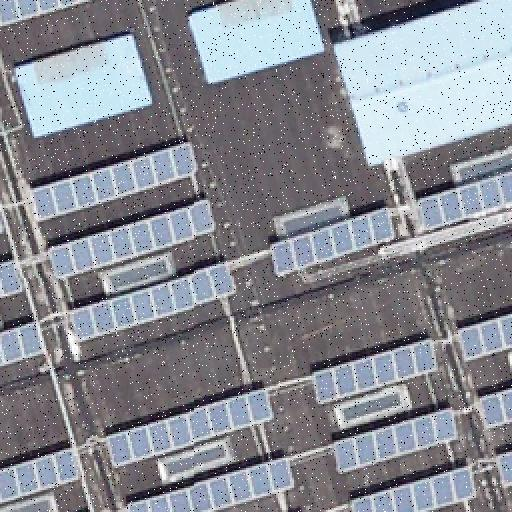solar-panel: (26, 140, 202, 224), (45, 199, 219, 281), (104, 387, 276, 469), (68, 259, 240, 341), (125, 454, 299, 512), (268, 205, 400, 275), (311, 336, 441, 404), (331, 407, 461, 473), (350, 464, 478, 512), (416, 170, 512, 234), (0, 447, 80, 505), (456, 310, 512, 362), (0, 1, 92, 31), (1, 319, 47, 369), (480, 387, 512, 429), (0, 255, 24, 297), (496, 449, 512, 487), (0, 211, 8, 237)
